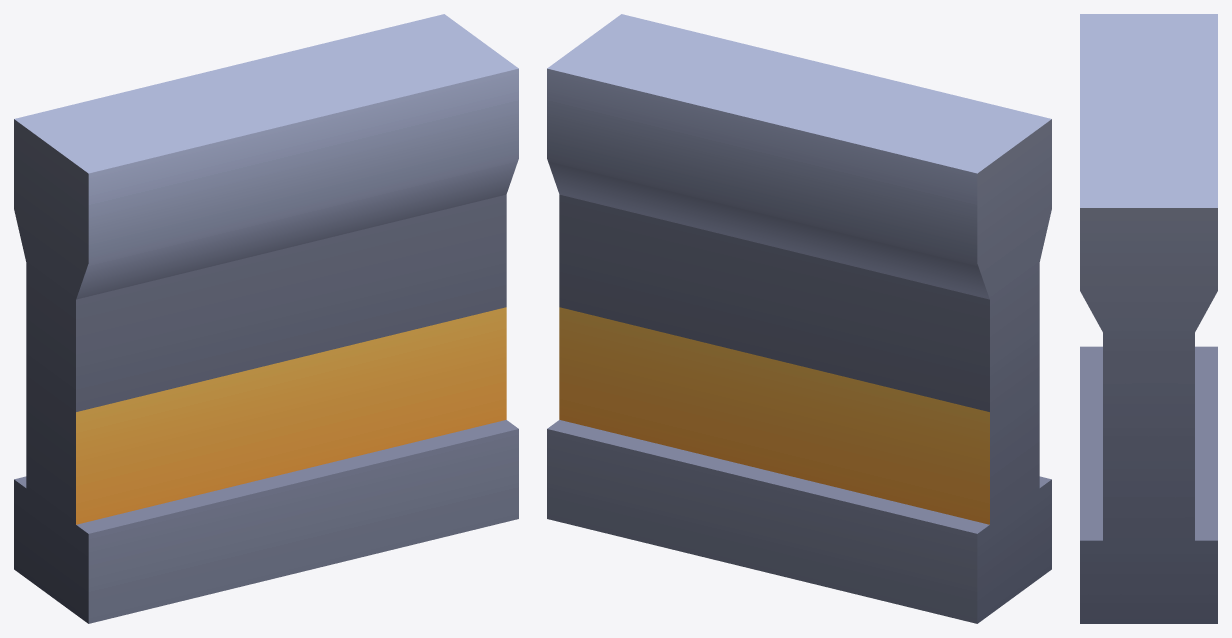
File: wall-banner.glb
The picture shows the model from 3 angles, left to right: view 1: azimuth 30°, elevation 25°; view 2: azimuth 150°, elevation 25°; view 3: azimuth 270°, elevation 25°; orthographic projection. The views are drawn at different scales.
Parts seen in each view (by area): view 1: wall-banner; view 2: wall-banner; view 3: wall-banner.
Part boxes in pixels (x1,y1,x2,y2): wall-banner: (14,14,518,623); wall-banner: (547,14,1051,623); wall-banner: (1080,14,1217,623).
Bounding box in the file's own units: 1 × 1 × 0.3.
Materials: 1 (1 with a texture image).
